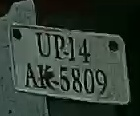0: (83, 67, 96, 95)
1: (67, 36, 77, 62)
4: (78, 37, 93, 65)
5: (59, 65, 71, 92)
8: (72, 67, 82, 94)
9: (95, 67, 109, 97)
A: (25, 61, 38, 89)
K: (38, 61, 53, 92)
P: (53, 33, 64, 59)
U: (35, 30, 51, 58)
